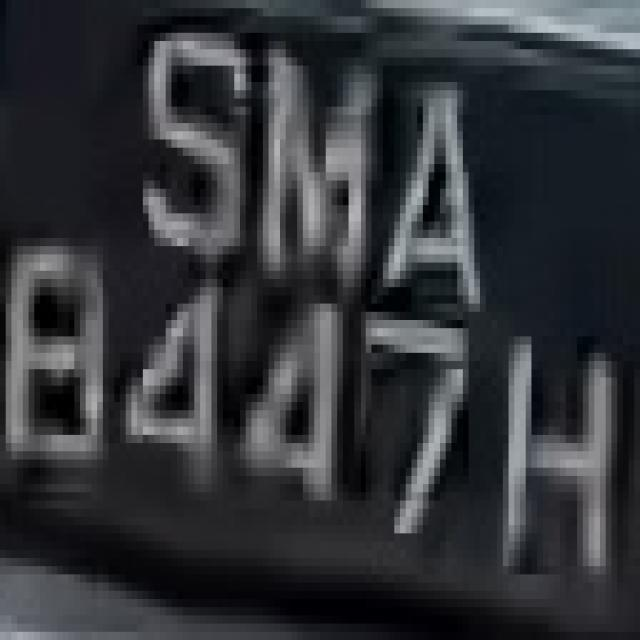4: (234, 262, 349, 550), (114, 279, 246, 484)
7: (343, 287, 474, 558)
8: (17, 213, 120, 509)
A: (377, 49, 492, 345)
H: (486, 312, 617, 574)
M: (240, 41, 389, 320)
S: (137, 0, 252, 279)
